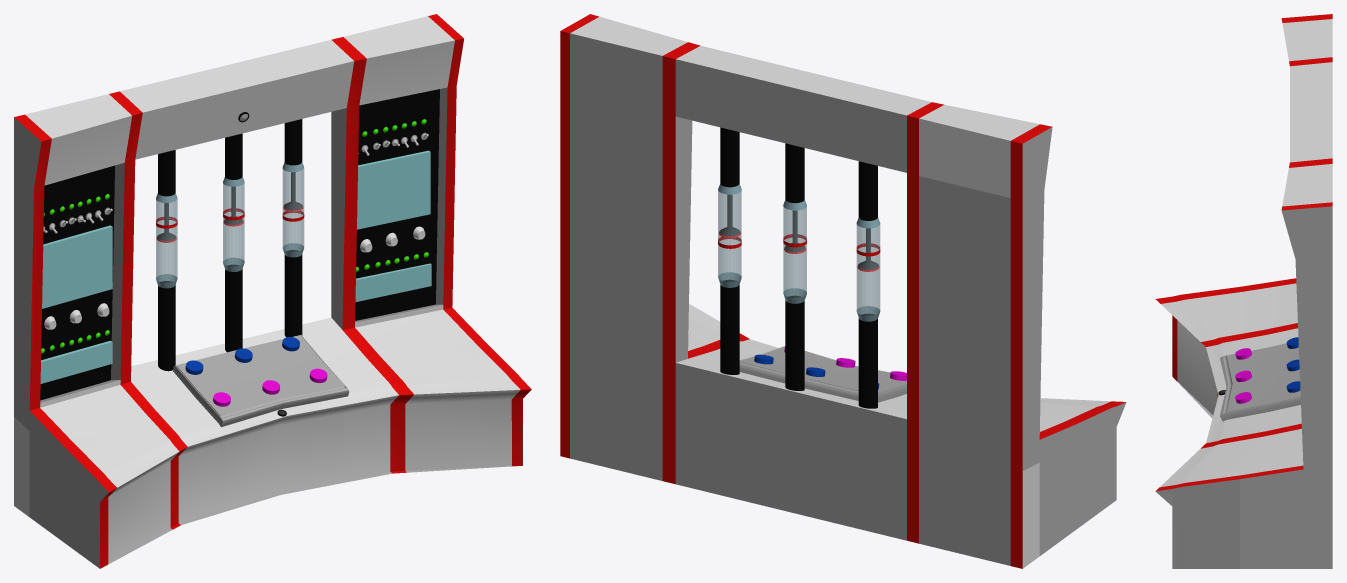
File: Compressor.fbx
The picture shows the model from 3 angles, left to right: view 1: azimuth 30°, elevation 25°; view 2: azimuth 150°, elevation 25°; view 3: azimuth 270°, elevation 25°; orthographic projection. The views are drawn at different scales.
Parts seen in each view (by area): view 1: group137_pasted__group121_pasted__pasted__group120_pasted__p, Cano03_02, Cano01_02, Cano02_02, Cano03_03, Cano01_03, Cano02_03, Cano03_01, Cano01_01, Cano02_01; view 2: group137_pasted__group121_pasted__pasted__group120_pasted__p, Cano01_02, Cano03_02, Cano02_02, Cano01_03, Cano02_03, Cano03_03, Cano01_01, Cano02_01, Cano03_01; view 3: group137_pasted__group121_pasted__pasted__group120_pasted__p.
Boxes of the visible parts, x1,y1,x2,y2 form: group137_pasted__group121_pasted__pasted__group120_pasted__p: [14, 14, 531, 568]; Cano03_02: [282, 162, 304, 257]; Cano01_02: [156, 193, 177, 288]; Cano02_02: [223, 177, 244, 271]; Cano03_03: [284, 250, 302, 337]; Cano01_03: [158, 281, 175, 371]; Cano02_03: [225, 264, 242, 352]; Cano03_01: [284, 119, 302, 165]; Cano01_01: [158, 150, 175, 196]; Cano02_01: [225, 133, 242, 179]; group137_pasted__group121_pasted__pasted__group120_pasted__p: [560, 14, 1126, 568]; Cano01_02: [856, 217, 880, 321]; Cano03_02: [718, 184, 741, 287]; Cano02_02: [783, 200, 806, 303]; Cano01_03: [858, 313, 877, 408]; Cano02_03: [785, 295, 804, 390]; Cano03_03: [720, 279, 739, 374]; Cano01_01: [858, 161, 877, 220]; Cano02_01: [785, 143, 804, 203]; Cano03_01: [720, 127, 739, 187]; group137_pasted__group121_pasted__pasted__group120_pasted__p: [1155, 14, 1332, 568].
Bounding box in the file's own units: 411 × 361 × 160.
